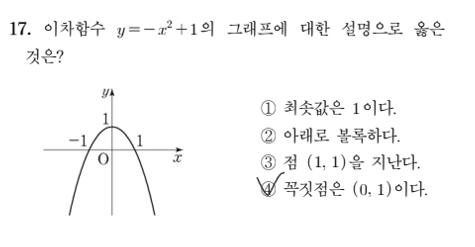1: (253, 172, 282, 202)
paper: (258, 98, 278, 118), (258, 125, 278, 145), (257, 152, 277, 172), (258, 179, 278, 199)
